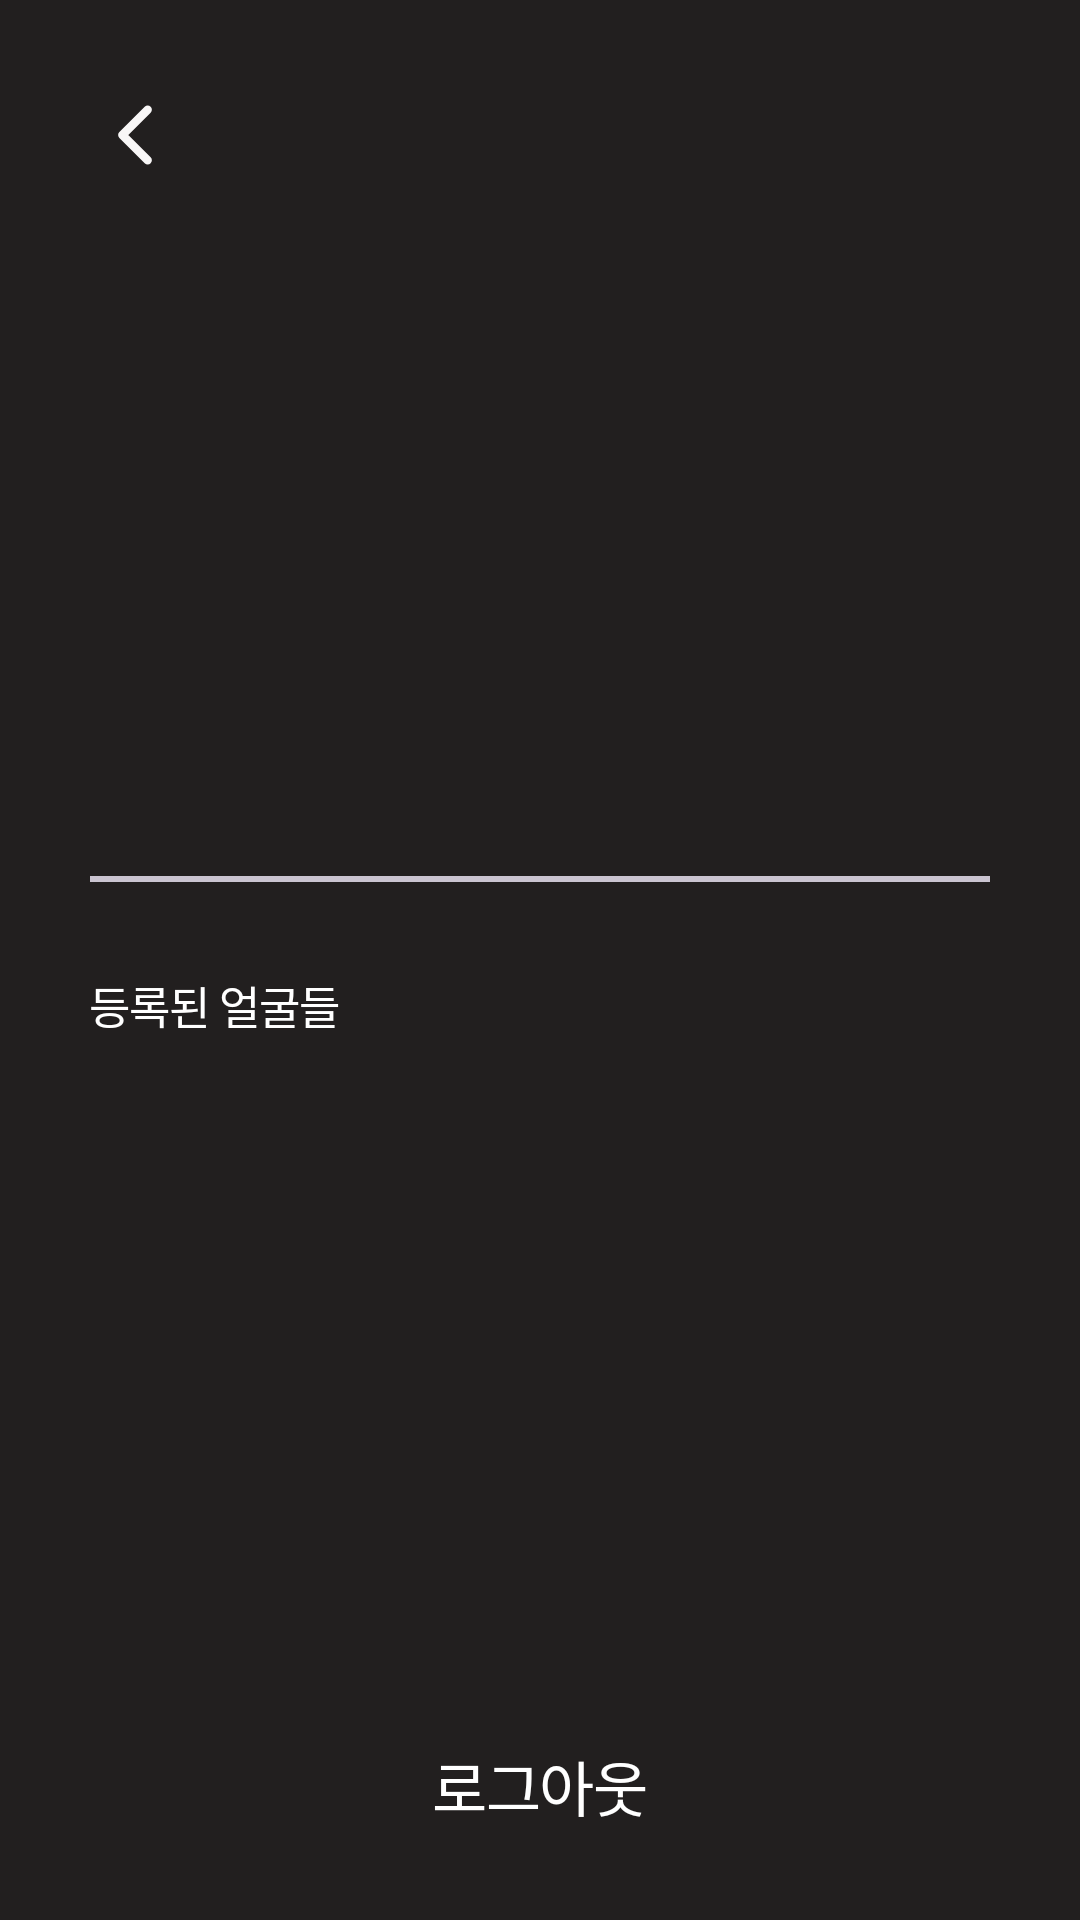

Icon click points for this 1080×1920 phone screenshot, format (x=x, y=y):
mypage back: (x=135, y=135)
